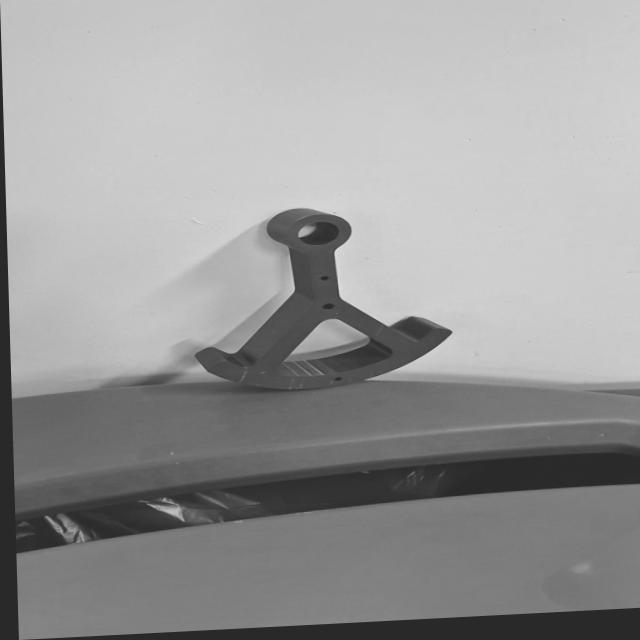haptic: (188, 199, 457, 397)
